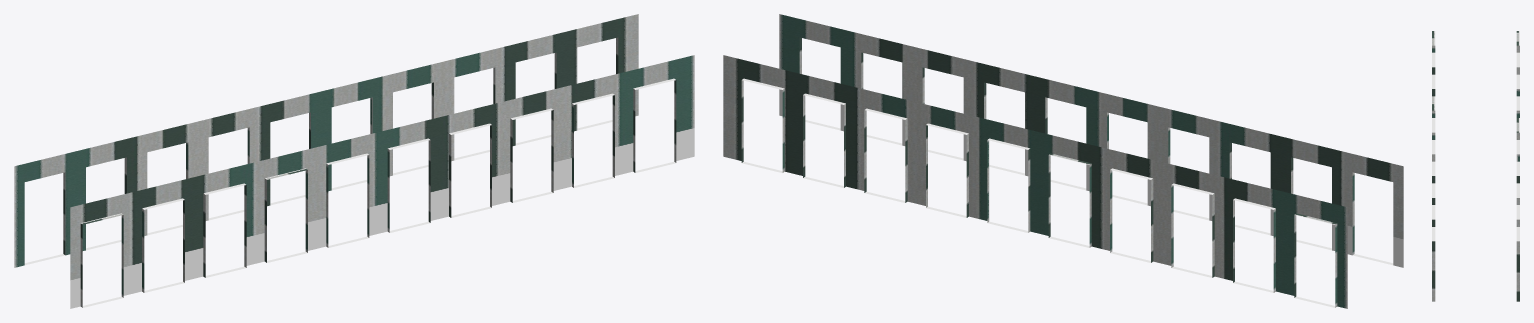
File: tunnelhalb1401.fbx
3 renders of one model, left to right at view 1: azimuth 30°, elevation 25°; view 2: azimuth 150°, elevation 25°; view 3: azimuth 270°, elevation 25°, orthographic. The views are drawn at different scales.
Visible parts, largest first — view 1: Plane; view 2: Plane; view 3: Plane.
Boxes of the visible parts, x1,y1,x2,y2 form: Plane: (14, 14, 694, 308); Plane: (723, 14, 1403, 308); Plane: (1432, 31, 1519, 301).
Size of the model in its own units: 2000 by 311 by 335.
